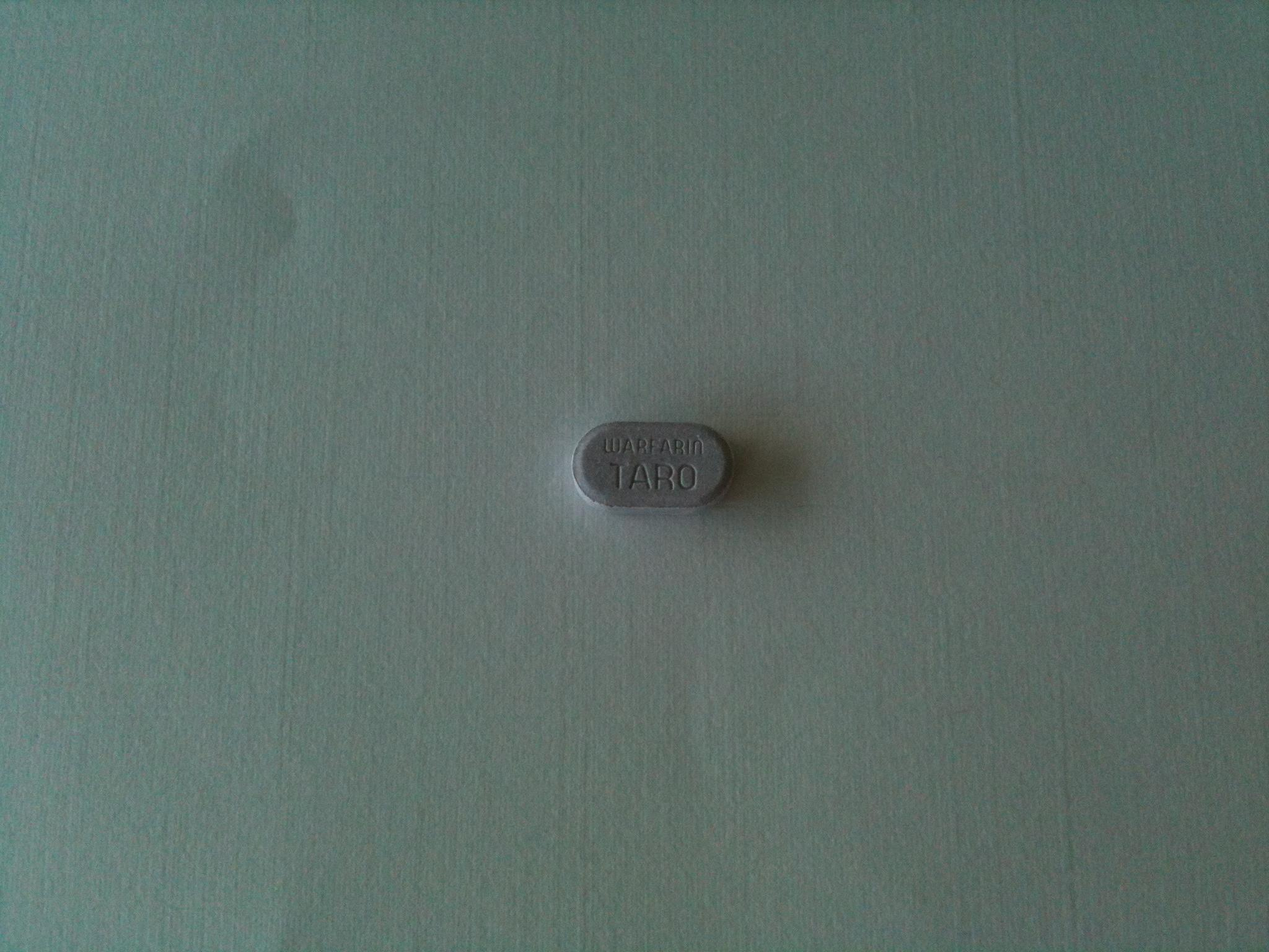Pill: (578, 420, 722, 558)
